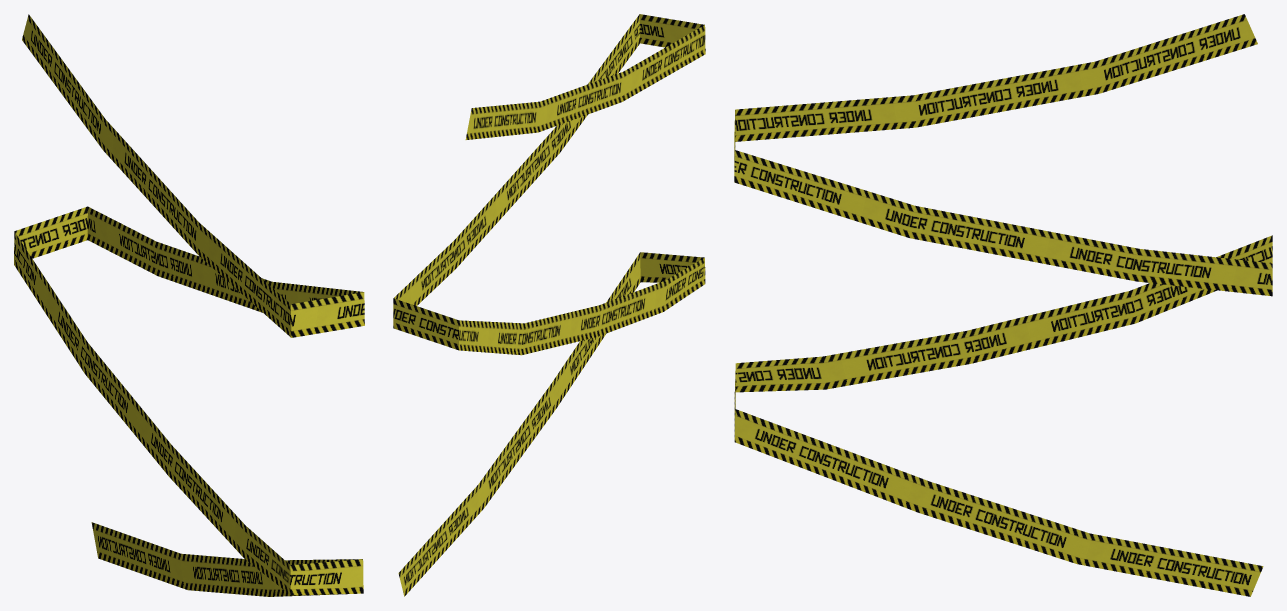
File: CautionTape.fbx
3 views of the same model, side by side, from view 1: azimuth 30°, elevation 25°; view 2: azimuth 150°, elevation 25°; view 3: azimuth 270°, elevation 25° (orthographic). The views are drawn at different scales.
Visible parts, largest first — view 1: CautionTape; view 2: CautionTape; view 3: CautionTape.
Part boxes in pixels (<box>): CautionTape: <box>14,14,364,596</box>; CautionTape: <box>393,14,705,596</box>; CautionTape: <box>734,14,1272,596</box>.
Size of the model in its own units: 3087 by 20119 by 22610.
